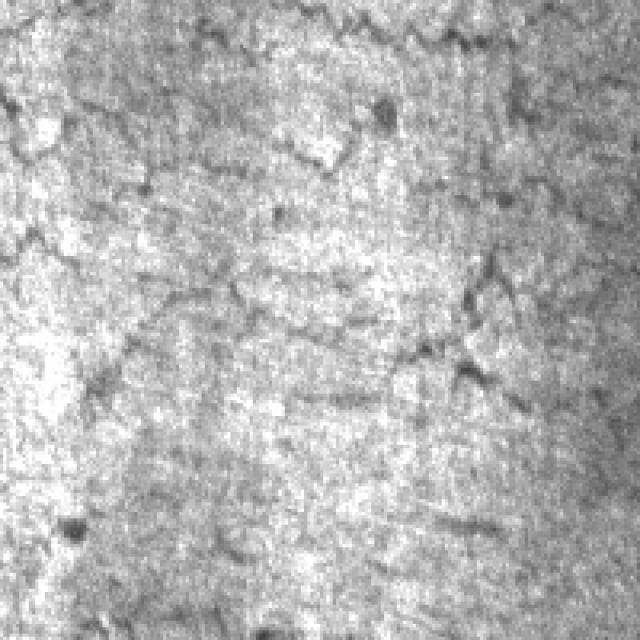crazing: (16, 3, 419, 390), (272, 237, 627, 426), (160, 0, 630, 115)
